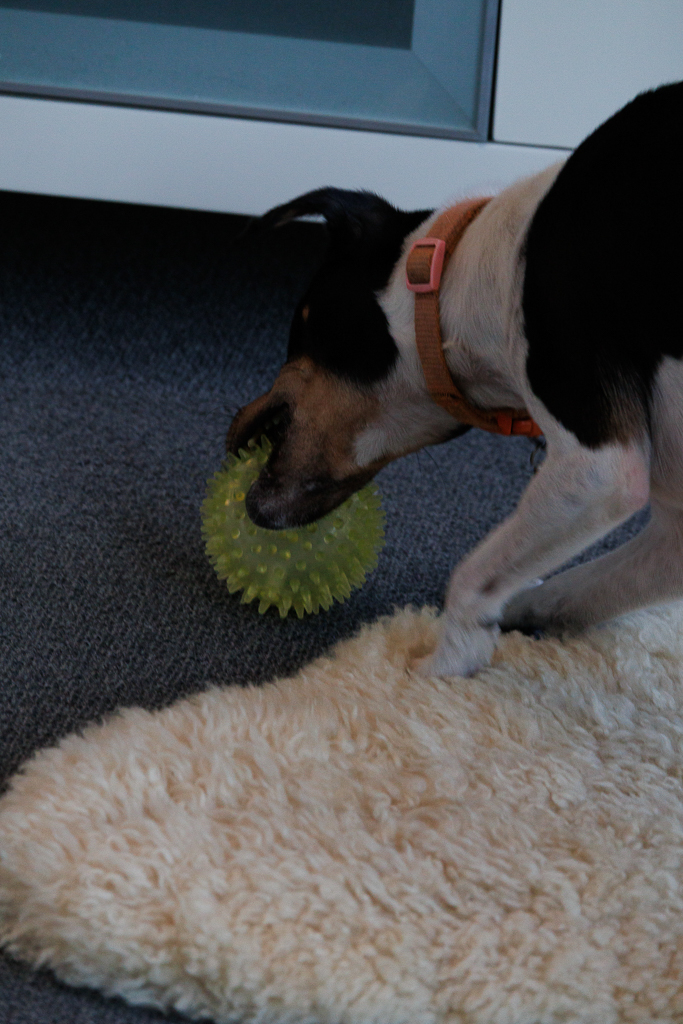Dog: (192, 59, 682, 701)
